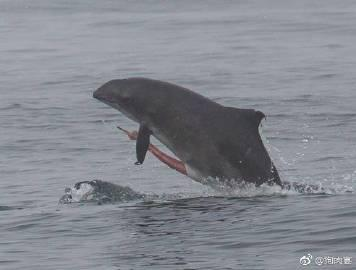fish: (92, 73, 319, 195)
